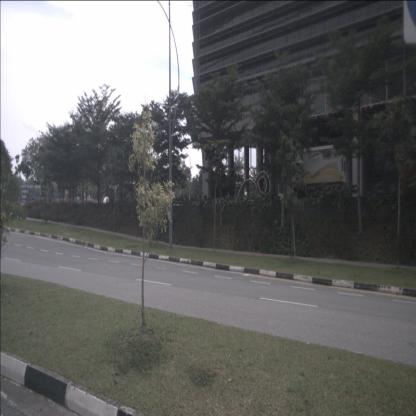vehicle-truck: (289, 144, 349, 200)
